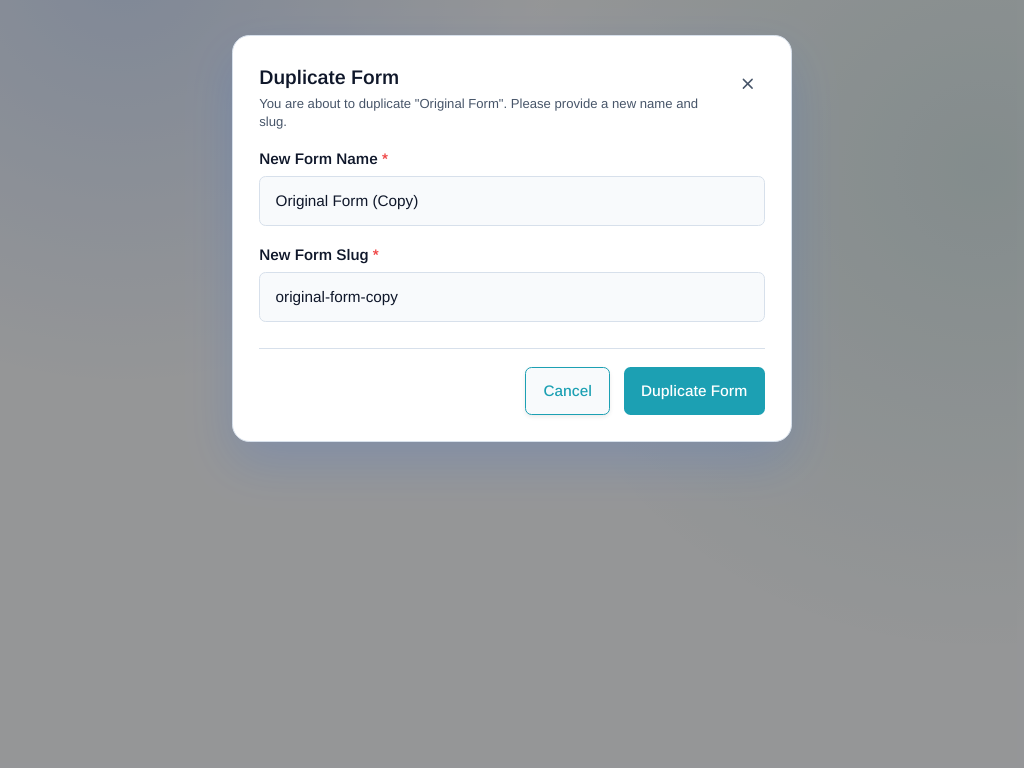
Test: DuplicateFormDialog › renders and auto-generates slug from title
Expected: the heading "Duplicate Form" is shown, [259, 66, 399, 88]
Expected: the field labelled "New Form Slug *" holds "original-form-copy", [259, 272, 765, 322]
# Change title and see if slug changes
Step 1. Replace the text in the field labelled "New Form Name *" with "My Awesome Duplicate Form" → [512, 201], box [259, 176, 765, 226]
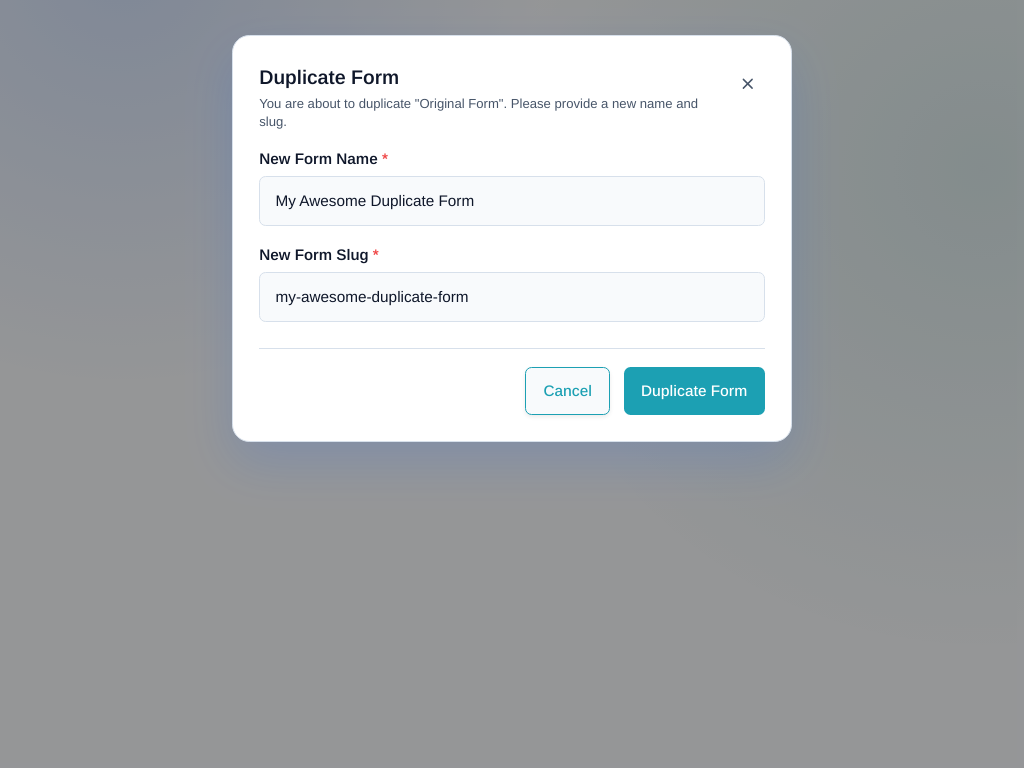
Now the field labelled "New Form Slug *" holds "my-awesome-duplicate-form", box [259, 272, 765, 322]
